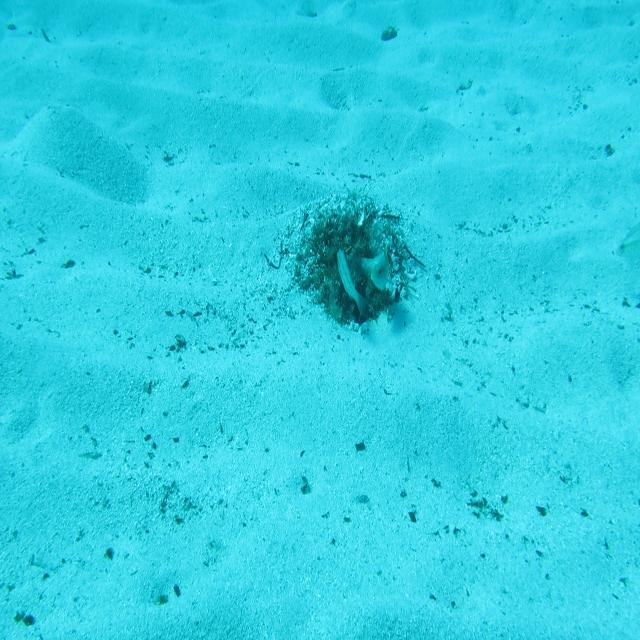DAN_CIRC: (353, 242, 390, 293)
female: (334, 246, 368, 318)
nest: (288, 188, 426, 329)
